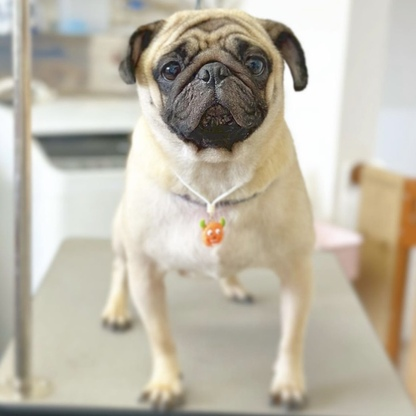Pug: (94, 5, 321, 416)
